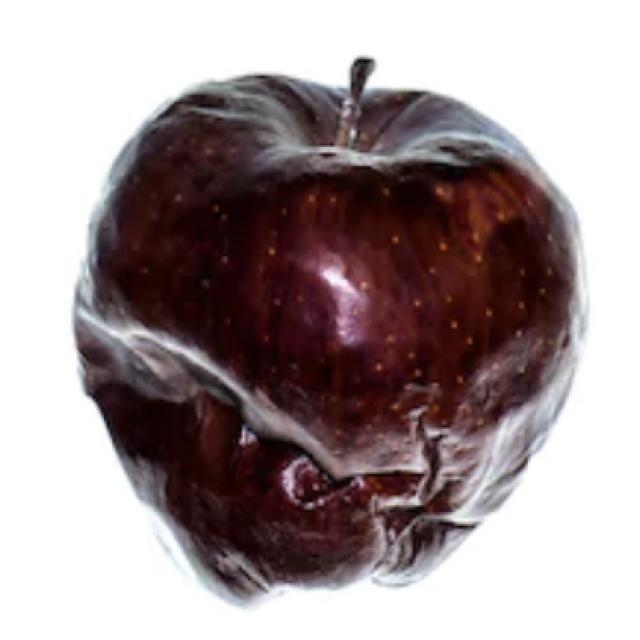Rotten: (67, 69, 583, 604)
